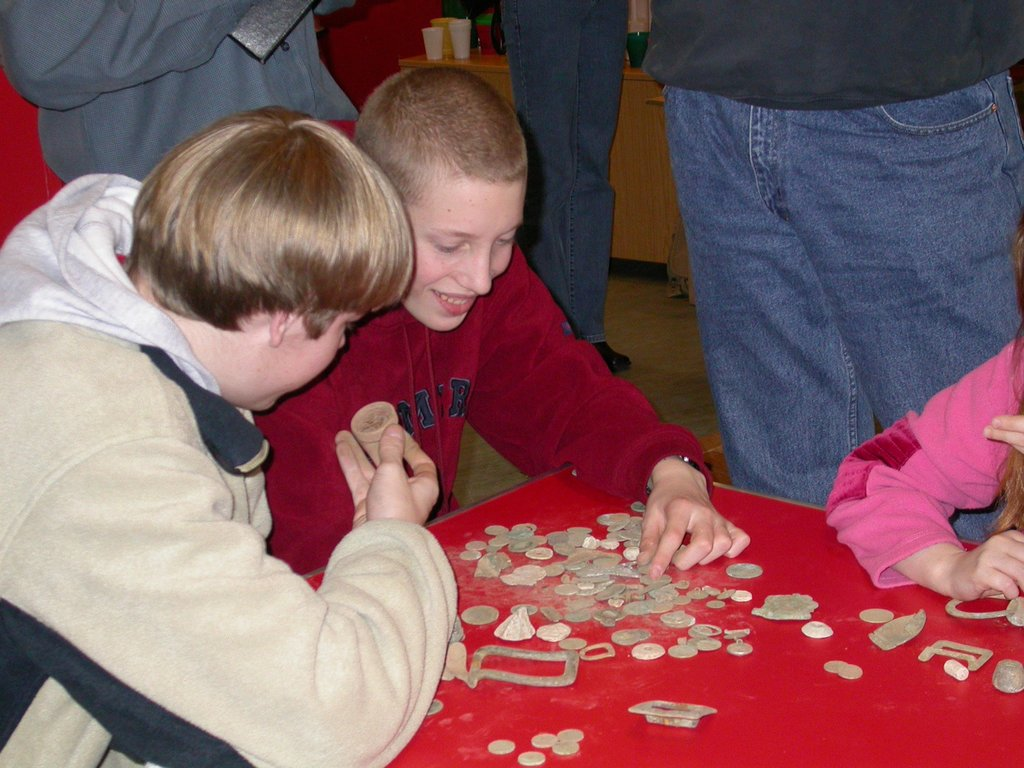Human_hand: (634, 470, 752, 585), (327, 401, 417, 550), (945, 528, 1023, 602), (981, 414, 1023, 455)
